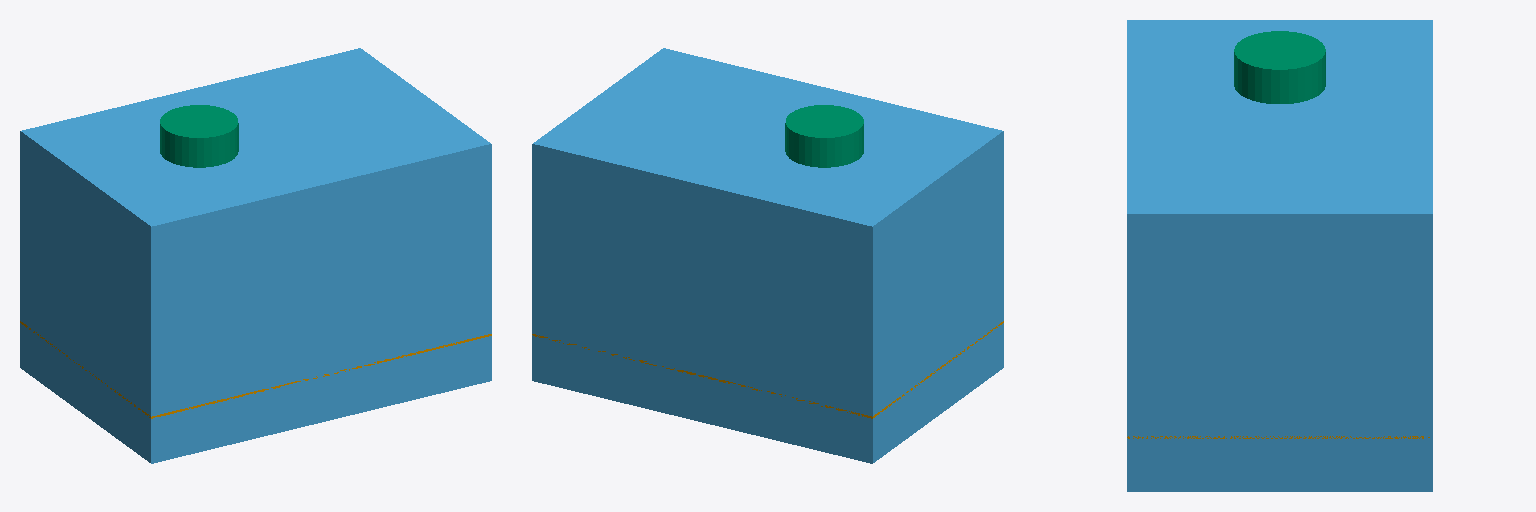
The robot description file, URDF, robot "HoverCar":
<?xml version="1.0"?>
<robot name="HoverCar">
  <link name="base_footprint">
    <visual>
      <geometry>
        <box size="0.3 0.2 0.002"/>
      </geometry>
      <origin  xyz="0 0 -0.001"/>
    </visual>
  </link>

  <link name="base_link">
    <visual>
      <geometry>
        <box size="0.3 0.2 0.2"/>
      </geometry>
      <origin  xyz="0 0 0.1"/>
    </visual>
  </link>

  <link name="laser_frame">
    <visual>
      <geometry>
        <cylinder length="0.05" radius="0.03"/>
      </geometry>
      <origin  xyz="0 0 0.0"/>
    </visual>
  </link>

  <joint name="base_link_to_laser" type="fixed">
    <parent link="base_link"/>
    <child link="laser_frame"/>
    <origin  xyz="-0.05 0 0.2"/>
  </joint>

 <joint name="base_to_footprint" type="fixed">
    <child link="base_footprint"/>
    <parent link="base_link"/>
    <origin  xyz="0 0 0.04"/>
  </joint>

</robot>

--- What the picture shows (computed from the rendered views, not written in the file) ---
Views: 3 orthographic renders of the robot side by side, from view 1: azimuth 30°, elevation 25°; view 2: azimuth 150°, elevation 25°; view 3: azimuth 270°, elevation 25°.
Robot: HoverCar — 3 links, 2 joints (2 fixed); root link base_link; default pose: all joints at 0.
Links seen in each view (by area): view 1: base_link, laser_frame, base_footprint; view 2: base_link, laser_frame, base_footprint; view 3: base_link, laser_frame.
Boxes of the visible links, box(x1,y1,x2,y2) form: base_link: box(20, 48, 491, 463); laser_frame: box(160, 105, 238, 167); base_footprint: box(20, 321, 491, 418); base_link: box(532, 48, 1003, 463); laser_frame: box(785, 105, 863, 167); base_footprint: box(532, 321, 1003, 418); base_link: box(1127, 20, 1432, 491); laser_frame: box(1234, 31, 1325, 103).
Bounding box of the posed robot: 0.3 × 0.2 × 0.225 m (x, y, z).
Geometry: primitives only (box / cylinder / sphere), no mesh files.